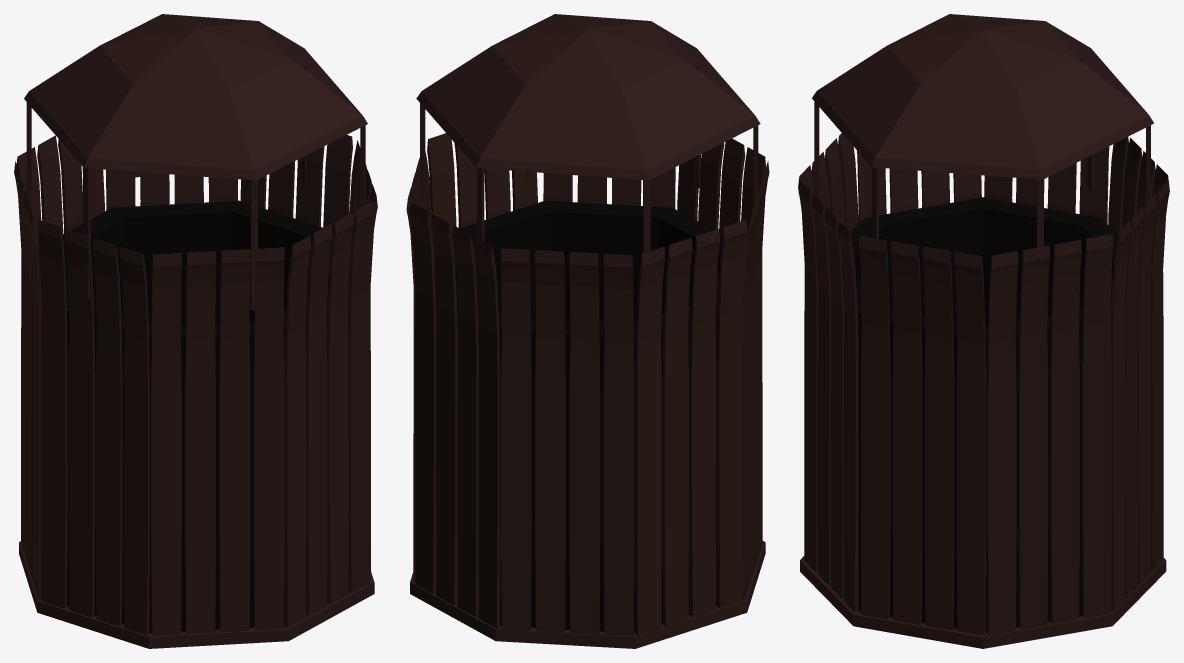
Rendered from TooBig.fbx.
The picture shows the model from 3 angles, left to right: view 1: azimuth 30°, elevation 25°; view 2: azimuth 150°, elevation 25°; view 3: azimuth 270°, elevation 25°; orthographic projection.
Parts seen in each view (by area): view 1: polySurface103; view 2: polySurface103; view 3: polySurface103.
Boxes of the visible parts, x1,y1,x2,y2 form: polySurface103: (14, 14, 377, 648); polySurface103: (406, 14, 769, 648); polySurface103: (798, 14, 1169, 648).
Size of the model in its own units: 242 by 390 by 242.
